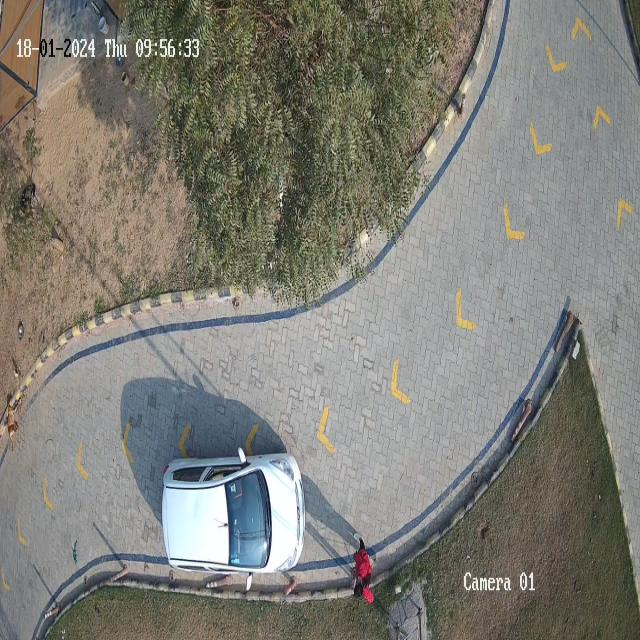car: (161, 449, 305, 576)
